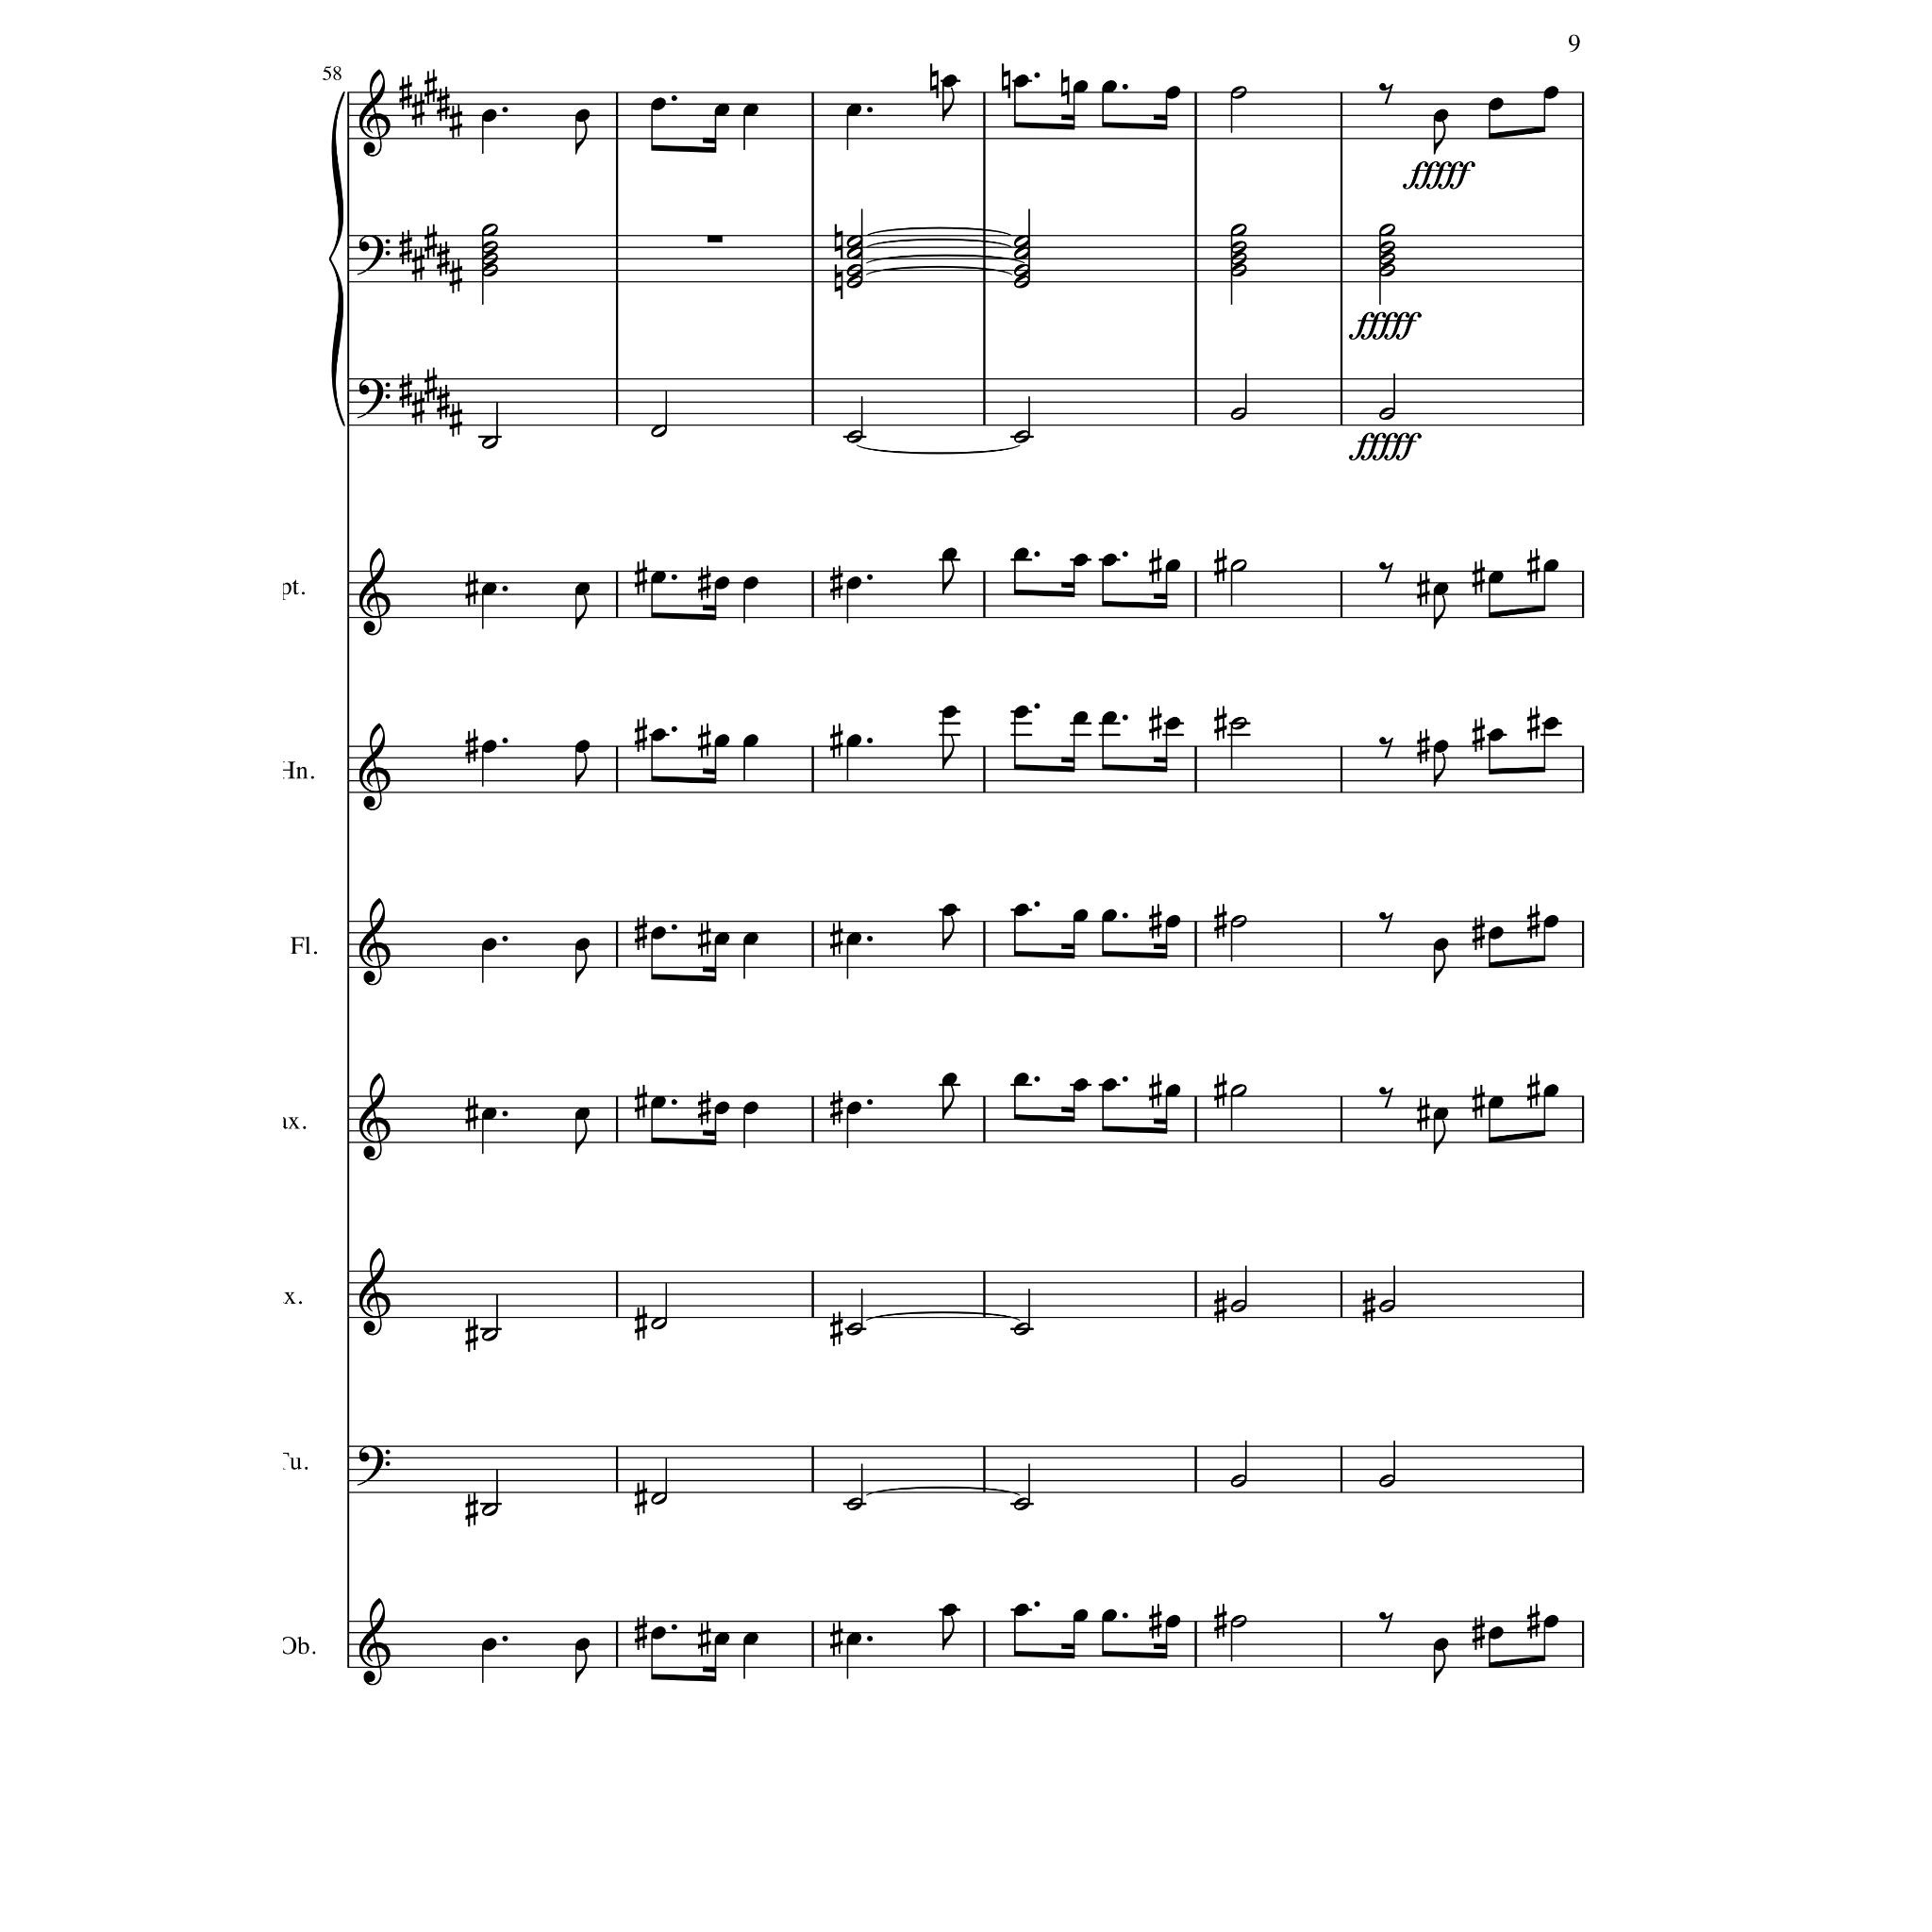brace: (329, 92, 345, 428)
fClef: (357, 1445, 391, 1486), (357, 379, 391, 419), (357, 235, 391, 276)
flag8thDown: (1433, 1649, 1445, 1684), (1433, 594, 1445, 630), (1433, 948, 1445, 984), (1433, 752, 1445, 787), (575, 948, 587, 984), (575, 1649, 587, 1684), (575, 752, 587, 787), (575, 594, 587, 630), (943, 915, 955, 950), (943, 1615, 955, 1651), (943, 87, 955, 122), (1433, 1120, 1445, 1154), (1433, 120, 1445, 154), (575, 1120, 587, 1154), (575, 120, 587, 154), (943, 1086, 955, 1120), (943, 736, 955, 770), (943, 561, 955, 594)
gClef: (359, 722, 391, 812), (359, 1247, 391, 1338), (359, 548, 391, 637), (359, 1598, 391, 1686), (359, 1072, 391, 1161), (359, 897, 391, 985), (359, 69, 391, 157)
noteheadBlack: (1102, 1077, 1118, 1092), (1102, 909, 1118, 924), (1102, 711, 1118, 725), (1102, 80, 1118, 94), (1072, 1077, 1088, 1092), (1072, 909, 1088, 924), (1072, 711, 1088, 725), (1072, 80, 1088, 94), (1164, 1615, 1180, 1629), (1164, 915, 1180, 929), (1164, 717, 1180, 731), (1164, 559, 1180, 573), (1543, 1615, 1559, 1629), (1543, 915, 1559, 929), (1543, 717, 1559, 731), (1543, 559, 1559, 573), (1488, 1626, 1504, 1640), (1488, 1095, 1504, 1109), (1488, 727, 1504, 741), (1488, 97, 1504, 111), (713, 1631, 729, 1645), (713, 1102, 729, 1116), (713, 577, 729, 591), (651, 1626, 667, 1640), (651, 1095, 667, 1109), (651, 727, 667, 741), (651, 97, 667, 111), (1012, 548, 1028, 563), (1012, 1603, 1028, 1617), (1012, 1072, 1028, 1086), (1012, 74, 1028, 88), (941, 1603, 957, 1617), (941, 1072, 957, 1086), (941, 548, 957, 563), (941, 74, 957, 88), (846, 1631, 862, 1645), (846, 1102, 862, 1116), (846, 577, 862, 591), (743, 1631, 759, 1645), (743, 1102, 759, 1116), (743, 577, 759, 591), (1102, 1610, 1118, 1622), (1102, 554, 1118, 566), (1072, 1610, 1088, 1622), (1072, 554, 1088, 566), (1164, 1085, 1180, 1097), (1164, 87, 1180, 99), (1543, 1085, 1559, 1097), (1543, 87, 1559, 99), (1488, 927, 1504, 939), (1488, 571, 1504, 584), (1433, 939, 1449, 952), (1433, 1638, 1449, 1651), (1433, 1108, 1449, 1120), (1433, 740, 1449, 752), (1433, 582, 1449, 594), (1433, 110, 1449, 122), (713, 932, 729, 945), (713, 734, 729, 747), (713, 104, 729, 117), (481, 1638, 497, 1651), (481, 1108, 497, 1120), (481, 939, 497, 952), (481, 740, 497, 752), (481, 582, 497, 594), (481, 110, 497, 122), (651, 927, 667, 939), (651, 571, 667, 584), (1012, 904, 1028, 916), (1012, 706, 1028, 718), (941, 904, 957, 916), (941, 706, 957, 718), (846, 932, 862, 945), (846, 734, 862, 747), (743, 932, 759, 945), (743, 734, 759, 747), (743, 104, 759, 117), (846, 104, 862, 117), (575, 1108, 589, 1120), (575, 1638, 589, 1651), (575, 939, 589, 952), (575, 740, 589, 752), (575, 582, 589, 594), (575, 110, 589, 122)
noteheadHalf: (1230, 559, 1247, 573), (1230, 407, 1247, 421), (1230, 223, 1247, 237), (1230, 241, 1247, 255), (1230, 264, 1247, 278), (1230, 717, 1247, 731), (1230, 1474, 1247, 1488), (1230, 915, 1247, 929), (1378, 264, 1396, 278), (1378, 1474, 1396, 1488), (1378, 407, 1396, 421), (1378, 223, 1396, 237), (1378, 241, 1396, 255), (481, 241, 499, 255), (481, 1504, 499, 1518), (481, 435, 499, 449), (481, 223, 499, 237), (481, 264, 499, 278), (649, 1316, 667, 1330), (846, 1497, 863, 1511), (846, 1322, 863, 1336), (846, 430, 863, 444), (846, 264, 863, 278), (1014, 1497, 1030, 1511), (1014, 1322, 1030, 1336), (1014, 430, 1030, 444), (1014, 264, 1030, 278), (1230, 253, 1247, 265), (1230, 87, 1247, 99), (1230, 1615, 1247, 1628), (1230, 1300, 1247, 1313), (1230, 1085, 1247, 1097), (1378, 1300, 1396, 1313), (1378, 253, 1396, 265), (481, 1329, 499, 1341), (481, 253, 499, 265), (649, 1491, 667, 1504), (649, 425, 667, 437), (846, 235, 863, 248), (846, 248, 863, 260), (846, 276, 863, 288), (1014, 235, 1030, 248), (1014, 248, 1030, 260), (1014, 276, 1030, 288)
rest8th: (1378, 83, 1394, 106), (1378, 1612, 1394, 1635), (1378, 1086, 1394, 1109), (1378, 736, 1394, 759), (1378, 563, 1394, 586), (1378, 913, 1394, 934)
restWhole: (708, 235, 724, 244)
